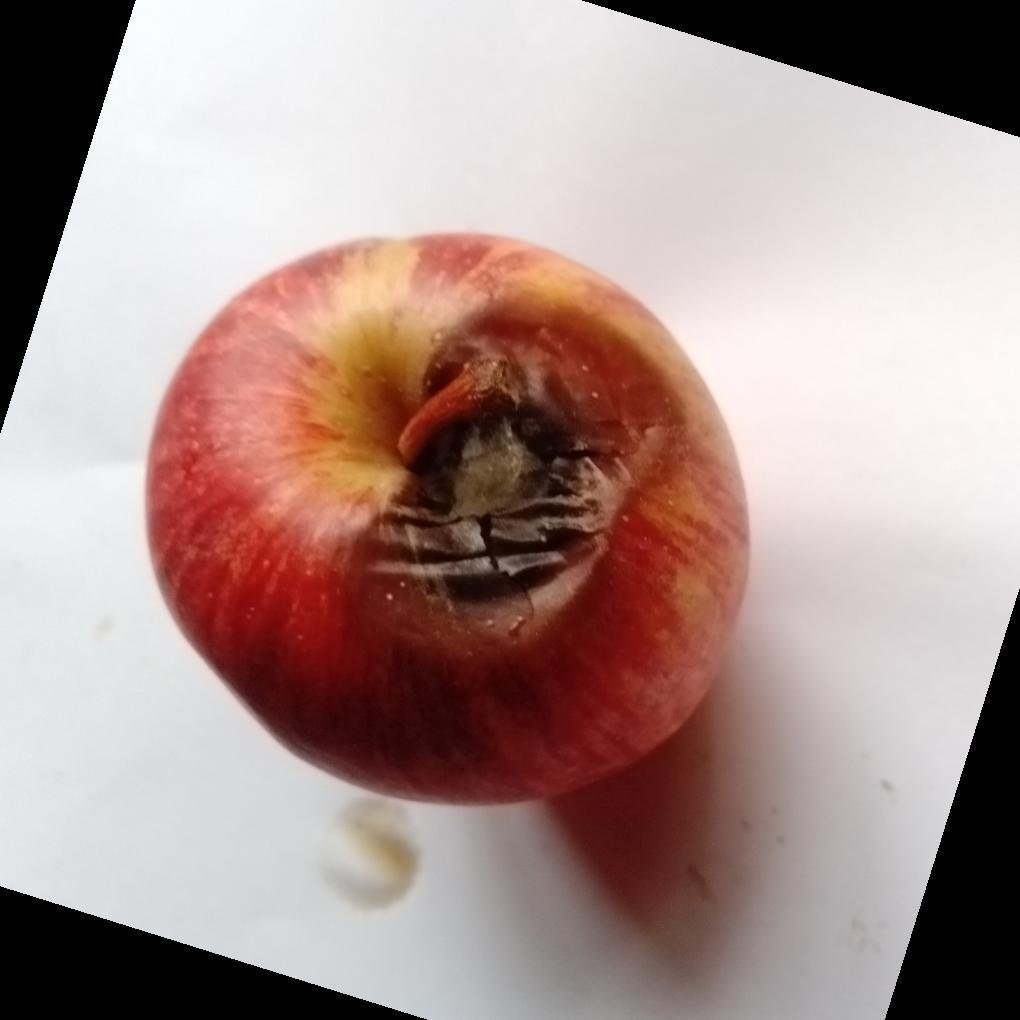FreshOrange: (143, 234, 753, 811)
